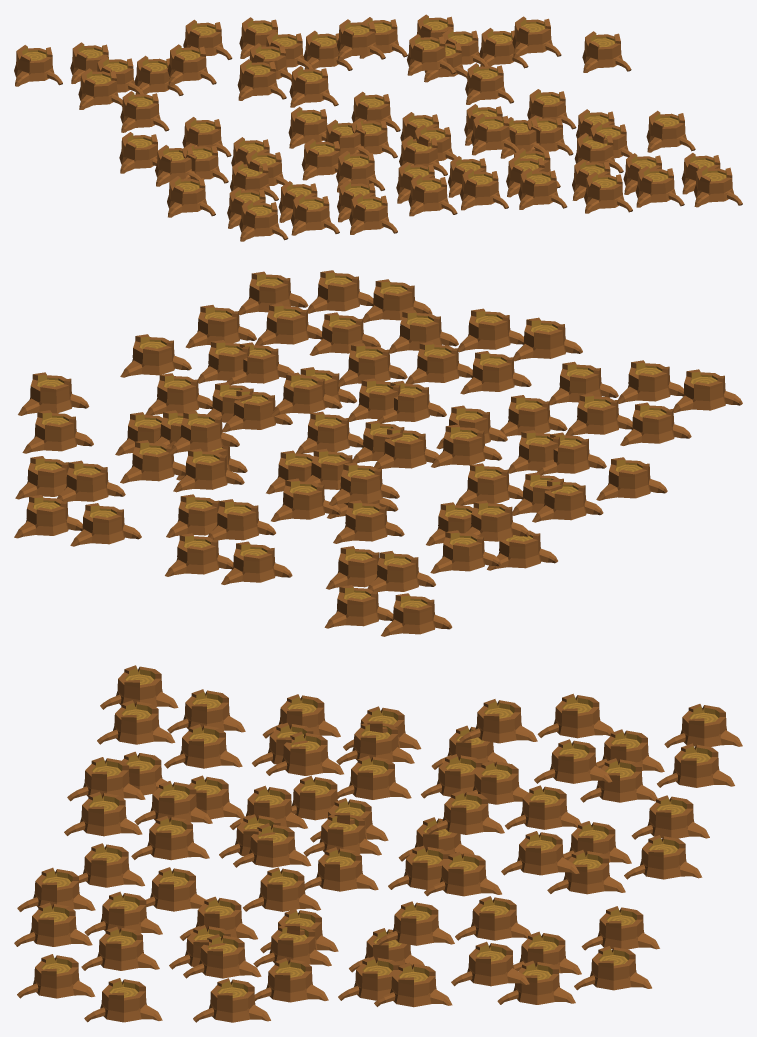
Rendered from cut.gltf.
3 renders of one model, top to bottom at view 1: azimuth 30°, elevation 25°; view 2: azimuth 150°, elevation 25°; view 3: azimuth 270°, elevation 25°, orthographic. The views are drawn at different scales.
Parts seen in each view (by area): view 1: Circle.067, Circle.108, Circle.092, Circle.109, Circle.085, Circle.086, Circle.003, Circle.106, Circle.105, Circle.002, Circle.062, Circle.063 (+57 smaller); view 2: Circle.083, Circle.108, Circle.062, Circle.060, Circle.074, Circle.106, Circle.070, Circle.075, Circle.052, Circle.085, Circle.009, Circle.071 (+55 smaller); view 3: Circle.108, Circle.105, Circle.063, Circle.110, Circle.064, Circle.008, Circle.062, Circle.090, Circle.067, Circle.107, Circle.003, Circle.072 (+57 smaller).
Part boxes in pixels (bbox=[...]): Circle.067: bbox=[120, 91, 169, 132]; Circle.108: bbox=[512, 16, 561, 58]; Circle.092: bbox=[635, 166, 684, 207]; Circle.109: bbox=[582, 31, 631, 72]; Circle.085: bbox=[167, 44, 216, 85]; Circle.086: bbox=[237, 59, 286, 100]; Circle.003: bbox=[289, 66, 338, 107]; Circle.106: bbox=[646, 110, 695, 152]; Circle.105: bbox=[694, 165, 742, 207]; Circle.002: bbox=[408, 174, 457, 216]; Circle.062: bbox=[337, 19, 385, 60]; Circle.063: bbox=[407, 34, 455, 75]; Circle.083: bbox=[431, 424, 502, 467]; Circle.108: bbox=[22, 410, 93, 453]; Circle.062: bbox=[173, 448, 244, 492]; Circle.060: bbox=[271, 372, 342, 416]; Circle.074: bbox=[430, 530, 501, 573]; Circle.106: bbox=[120, 334, 191, 377]; Circle.070: bbox=[620, 402, 691, 445]; Circle.075: bbox=[381, 593, 452, 636]; Circle.052: bbox=[221, 541, 292, 584]; Circle.085: bbox=[333, 500, 404, 543]; Circle.009: bbox=[460, 351, 531, 394]; Circle.071: bbox=[596, 457, 667, 500]; Circle.108: bbox=[451, 941, 529, 986]; Circle.105: bbox=[17, 954, 95, 998]; Circle.063: bbox=[424, 852, 501, 896]; Circle.110: bbox=[574, 946, 651, 990]; Circle.064: bbox=[624, 835, 702, 879]; Circle.008: bbox=[64, 791, 142, 836]; Circle.062: bbox=[501, 831, 579, 875]; Circle.090: bbox=[376, 901, 454, 945]; Circle.067: bbox=[459, 699, 537, 743]; Circle.107: bbox=[84, 978, 162, 1022]; Circle.003: bbox=[426, 790, 504, 834]; Circle.072: bbox=[164, 724, 242, 768].
Bounding box in the file's own units: 12.33 × 2.04 × 13.08.
